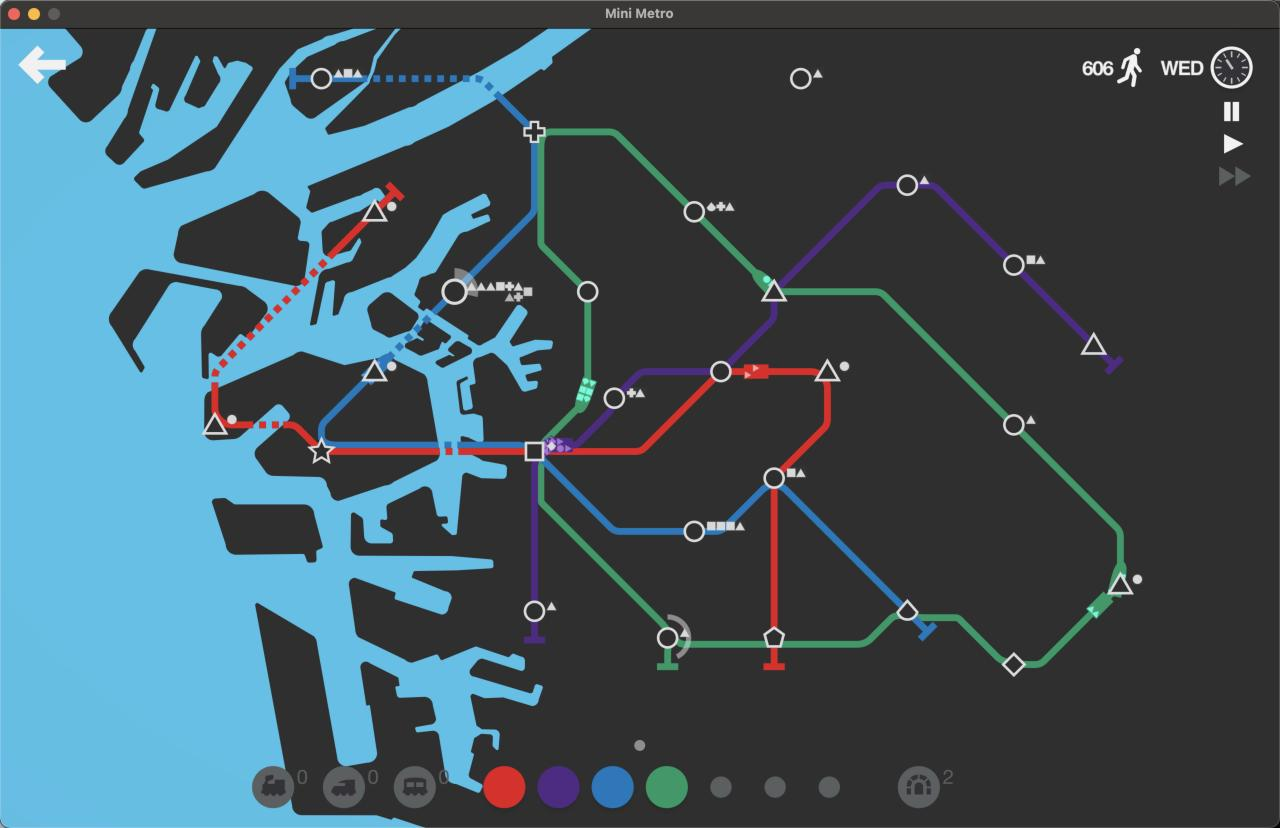CIRCLE: (441, 277, 469, 306), (576, 280, 599, 303), (709, 360, 732, 383), (1002, 413, 1025, 436), (762, 467, 785, 489), (683, 200, 705, 223), (683, 520, 705, 543), (523, 600, 546, 622), (657, 627, 679, 650), (1003, 253, 1025, 276), (790, 67, 812, 90), (310, 67, 332, 89), (896, 174, 918, 196), (604, 388, 625, 409)
CROSS: (523, 120, 545, 143)
GEM: (1002, 653, 1026, 677)
PENTAGON: (763, 626, 786, 649)
SQUARE: (524, 441, 545, 462)
STAR: (308, 441, 334, 464)
TRIANGLE: (202, 410, 229, 438), (360, 196, 389, 222), (360, 358, 389, 383), (1107, 571, 1133, 597), (761, 278, 788, 303), (814, 358, 842, 382), (1081, 332, 1108, 356)
WEDGE: (896, 599, 919, 621)
